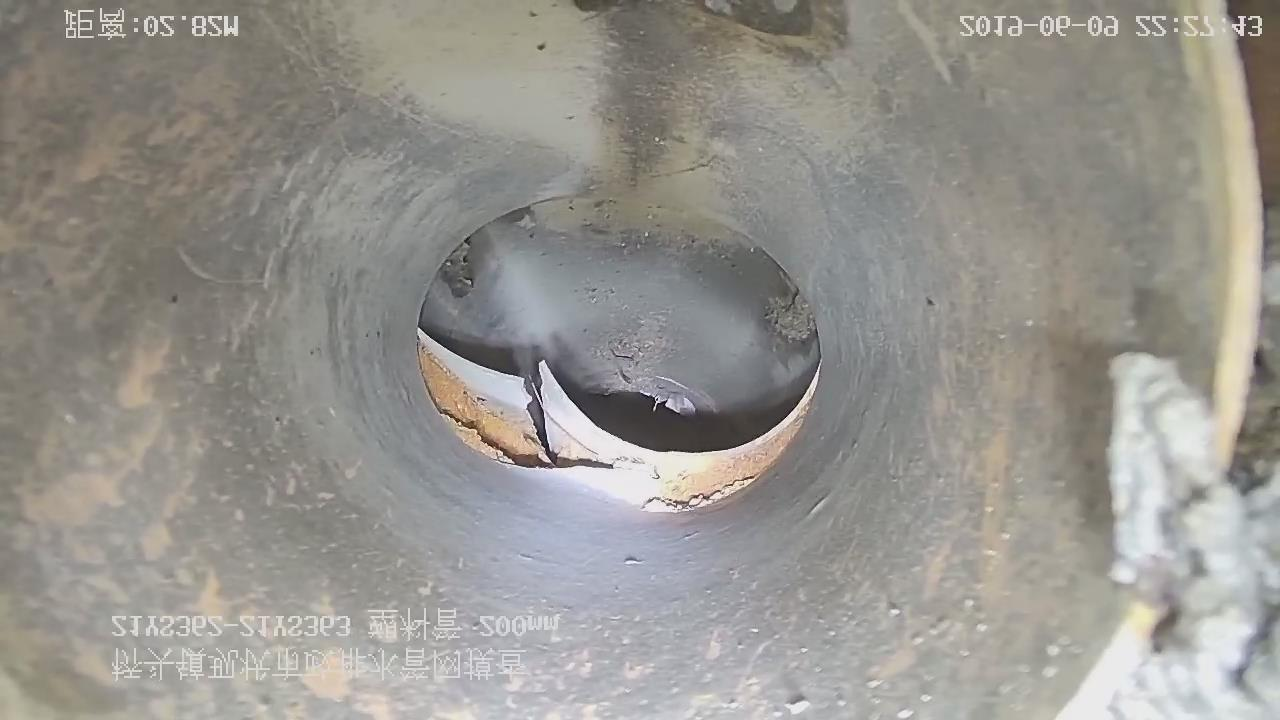PL: (389, 319, 838, 523)
